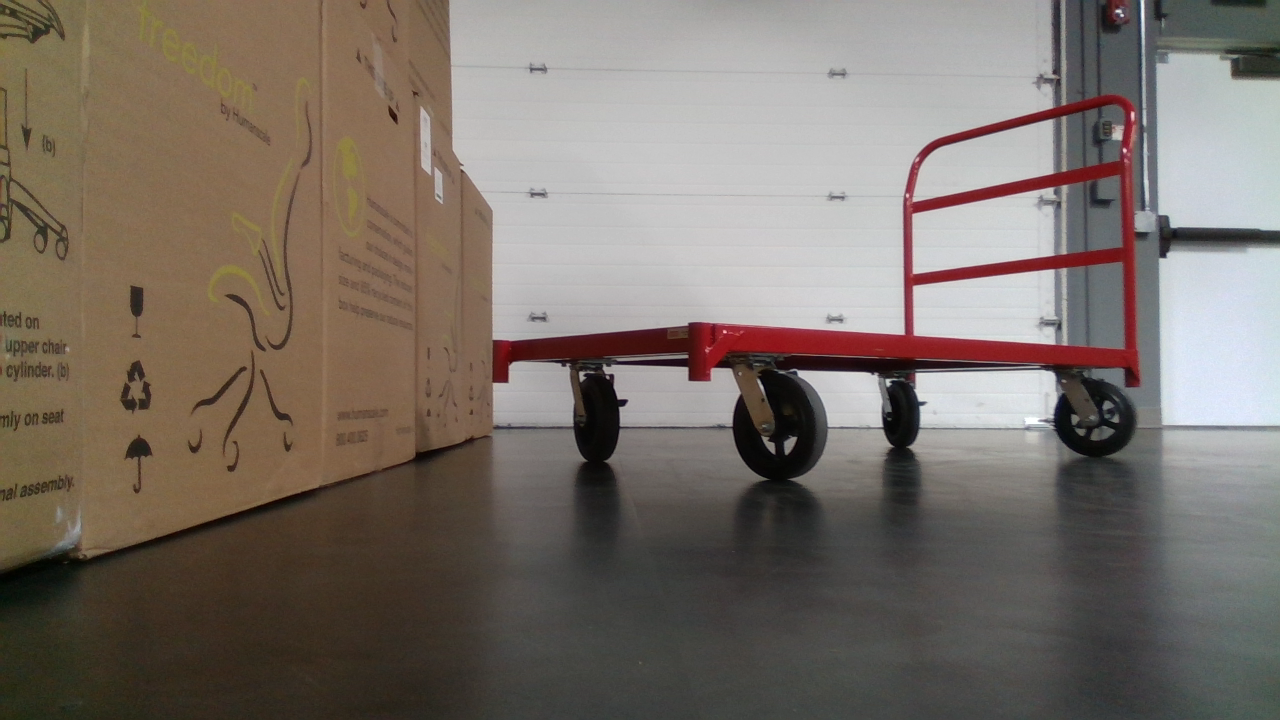Dolly: (482, 91, 1156, 487)
Wheel: (729, 369, 828, 482), (1051, 377, 1139, 458), (571, 372, 622, 464), (879, 381, 923, 448)
